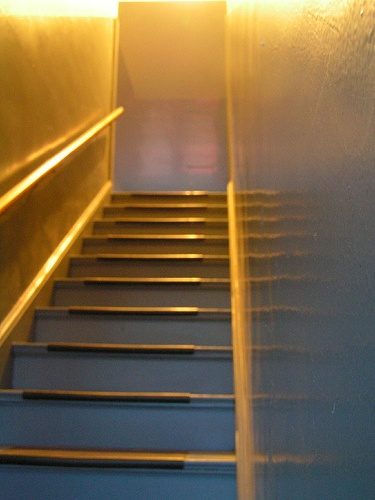stairs_up: (5, 184, 234, 500)
